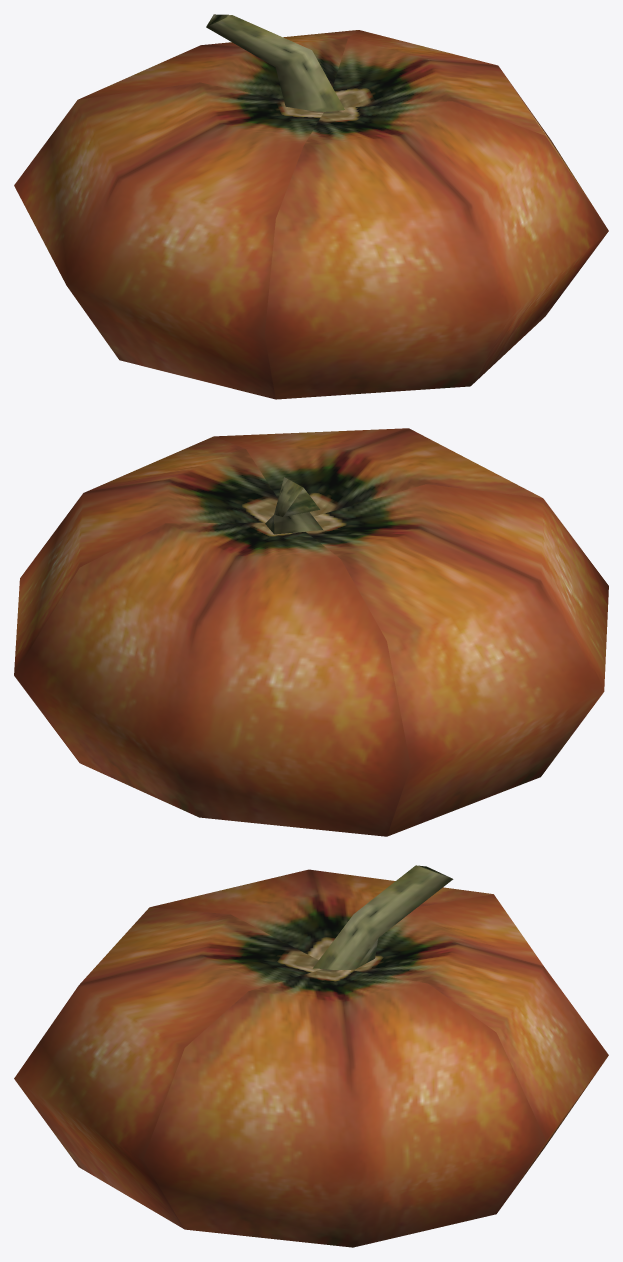
Rendered from wm_蔬菜南瓜02.fbx.
3 views of the same model, one above another, from view 1: azimuth 30°, elevation 25°; view 2: azimuth 150°, elevation 25°; view 3: azimuth 270°, elevation 25° (orthographic). The views are drawn at different scales.
Parts seen in each view (by area): view 1: wm_蔬菜南瓜02; view 2: wm_蔬菜南瓜02; view 3: wm_蔬菜南瓜02.
Part boxes in pixels (x1=…): wm_蔬菜南瓜02: x1=14, y1=14, x2=608, y2=399; wm_蔬菜南瓜02: x1=14, y1=428, x2=608, y2=836; wm_蔬菜南瓜02: x1=14, y1=865, x2=608, y2=1247.
Size of the model in its own units: 130 by 64.35 by 130.
